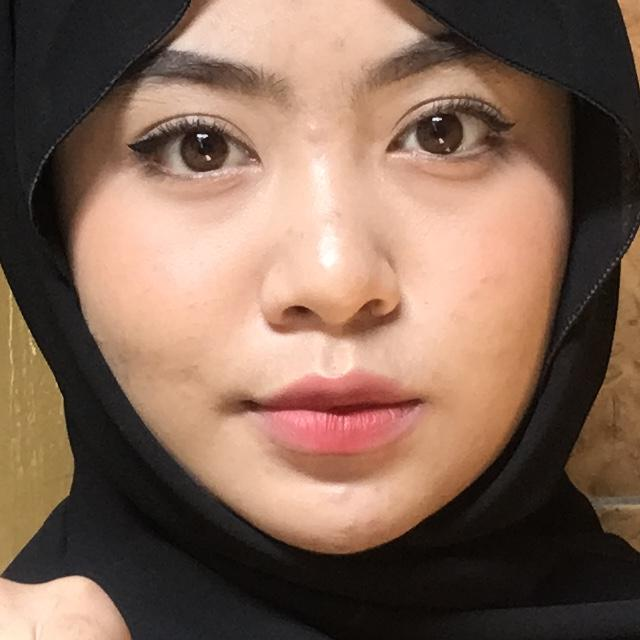kamu: (0, 426, 395, 640)
